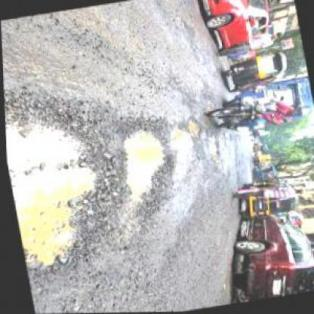Hueco: (3, 81, 130, 282), (116, 116, 181, 212), (169, 127, 192, 152), (203, 135, 222, 162), (182, 118, 204, 140)
